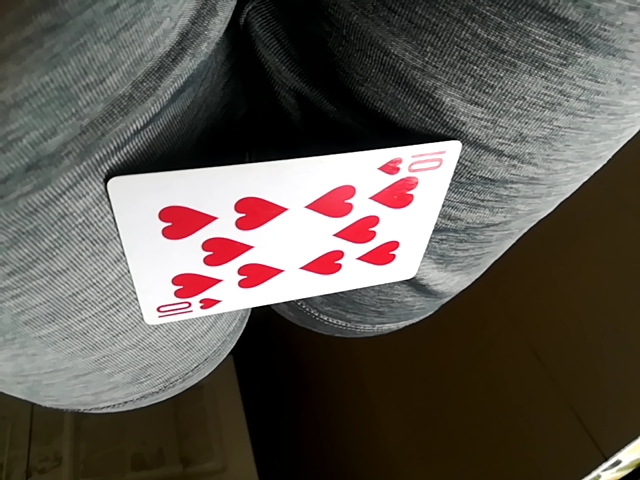hx 10: (108, 145, 458, 324)
